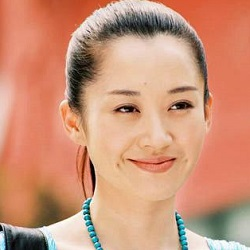unmask: (81, 49, 209, 202)
